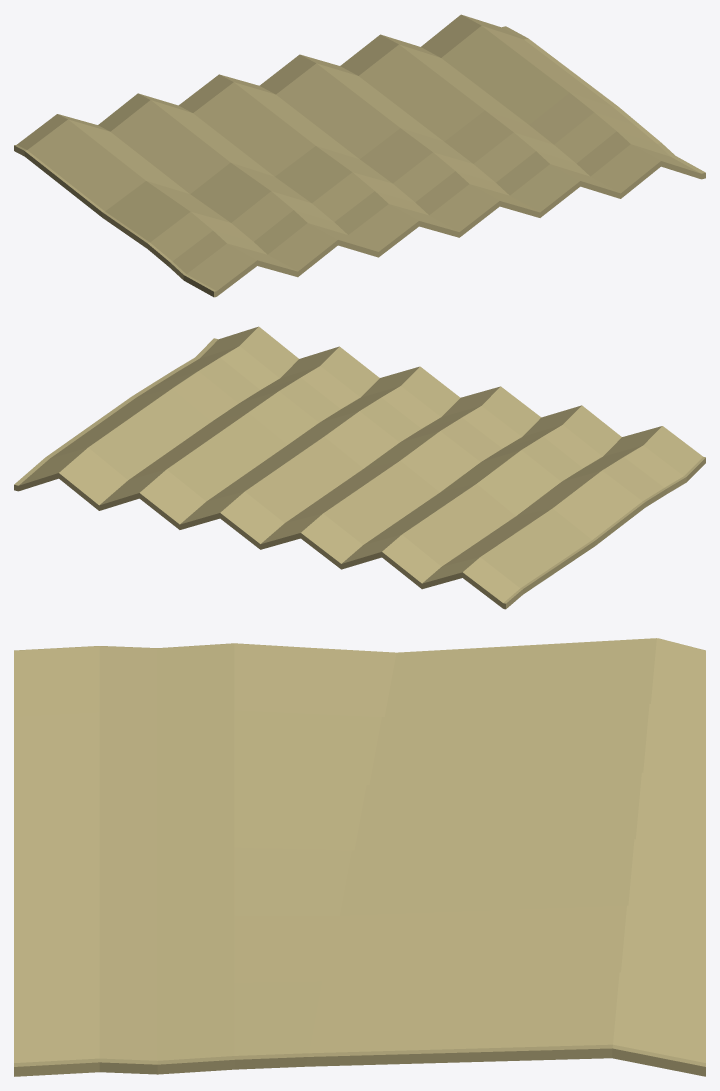
Rendered from lacune.fbx_MetalRoofSmall.fbx.
3 views of the same model, one above another, from view 1: azimuth 30°, elevation 25°; view 2: azimuth 150°, elevation 25°; view 3: azimuth 270°, elevation 25° (orthographic). The views are drawn at different scales.
Parts seen in each view (by area): view 1: MetalRoofSmall; view 2: MetalRoofSmall; view 3: MetalRoofSmall.
Part boxes in pixels (x1=…): MetalRoofSmall: x1=14, y1=14, x2=705, y2=297; MetalRoofSmall: x1=14, y1=326, x2=705, y2=609; MetalRoofSmall: x1=14, y1=638, x2=705, y2=1076.
Size of what is drawn, in the model's own units: 203 by 14.61 by 142.
